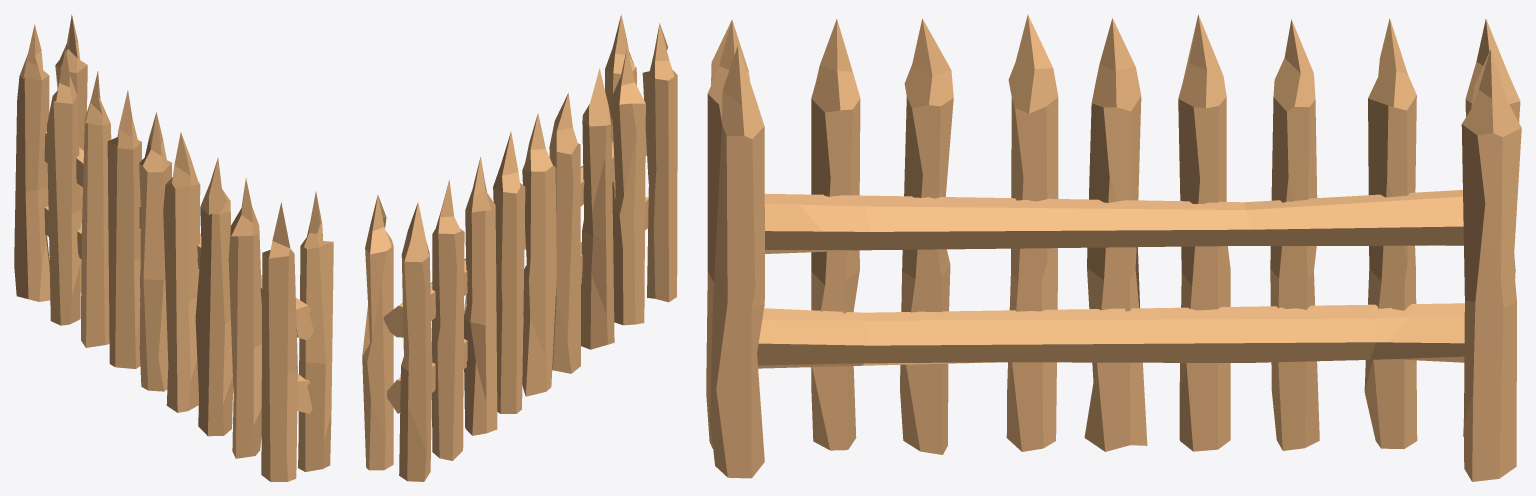
Rendered from cc_fence1.fbx.
3 renders of one model, left to right at view 1: azimuth 30°, elevation 25°; view 2: azimuth 150°, elevation 25°; view 3: azimuth 270°, elevation 25°, orthographic. The views are drawn at different scales.
Visible parts, largest first — view 1: Cylinder, Cylinder.002, Cylinder.003, Cylinder.008, Cylinder.005, Cylinder.001, Cylinder.007, Cylinder.010, Cylinder.004, Cylinder.006, Cylinder.011, Cylinder.009; view 2: Cylinder.004, Cylinder.001, Cylinder.002, Cylinder.006, Cylinder, Cylinder.007, Cylinder.008, Cylinder.005, Cylinder.009, Cylinder.003, Cylinder.011, Cylinder.010; view 3: Cylinder.011, Cylinder.009, Cylinder.010, Cylinder.004, Cylinder.005, Cylinder.003, Cylinder.002, Cylinder.007, Cylinder.001, Cylinder.006, Cylinder, Cylinder.008.
Boxes of the visible parts, x1,y1,x2,y2 form: Cylinder: (261, 202, 297, 481); Cylinder.002: (195, 157, 233, 436); Cylinder.003: (163, 132, 200, 412); Cylinder.008: (14, 24, 50, 301); Cylinder.005: (107, 90, 141, 368); Cylinder.001: (228, 178, 261, 458); Cylinder.007: (47, 47, 80, 325); Cylinder.010: (298, 191, 333, 471); Cylinder.004: (139, 112, 171, 391); Cylinder.006: (81, 71, 111, 347); Cylinder.011: (44, 132, 313, 413); Cylinder.009: (55, 14, 87, 292); Cylinder.004: (522, 113, 556, 396); Cylinder.001: (611, 48, 645, 325); Cylinder.002: (581, 68, 614, 349); Cylinder.006: (464, 157, 497, 435); Cylinder: (642, 23, 677, 302); Cylinder.007: (432, 179, 464, 460); Cylinder.008: (399, 202, 432, 481); Cylinder.005: (493, 131, 525, 413); Cylinder.009: (362, 195, 393, 470); Cylinder.003: (549, 93, 580, 373); Cylinder.011: (383, 132, 648, 413); Cylinder.010: (605, 14, 636, 204); Cylinder.011: (757, 190, 1464, 368); Cylinder.009: (1461, 49, 1521, 481); Cylinder.010: (710, 45, 764, 478); Cylinder.004: (1084, 18, 1147, 451); Cylinder.005: (1178, 14, 1230, 451); Cylinder.003: (1006, 14, 1058, 451); Cylinder.002: (900, 18, 953, 454); Cylinder.007: (1364, 18, 1417, 449); Cylinder.001: (811, 19, 860, 450); Cylinder.006: (1270, 19, 1319, 450); Cylinder: (706, 19, 750, 448); Cylinder.008: (1463, 19, 1520, 436).
Size of the model in its own units: 128 by 495 by 849.
